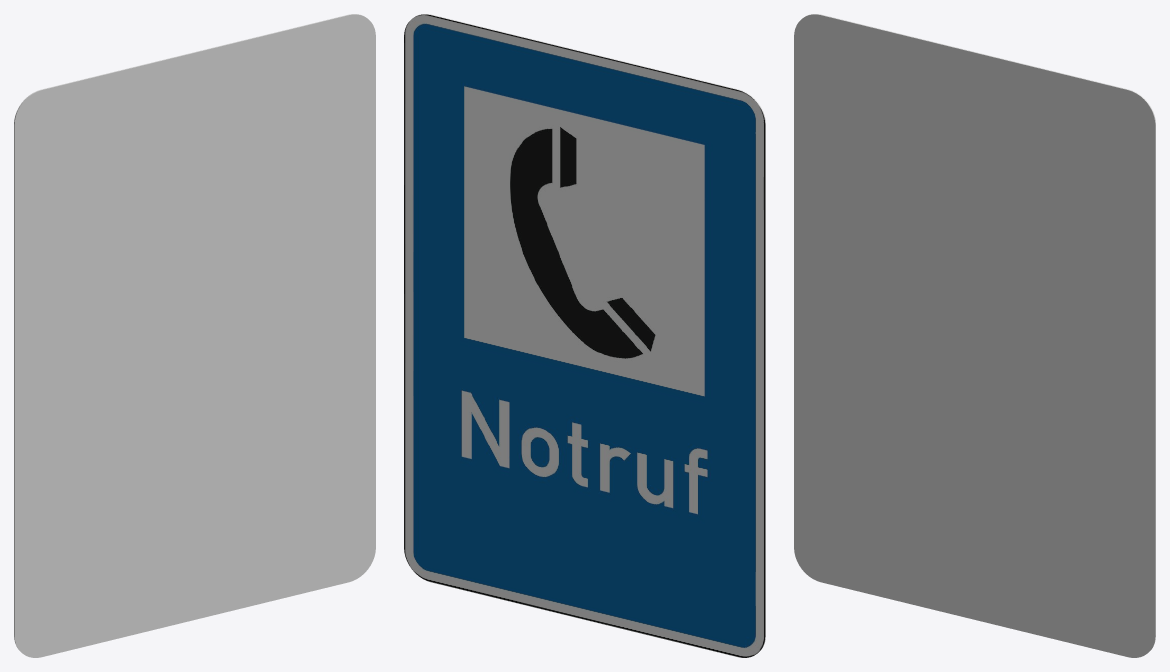
The model's file is 365-52alt.glb.
3 renders of one model, left to right at view 1: azimuth 30°, elevation 25°; view 2: azimuth 150°, elevation 25°; view 3: azimuth 330°, elevation 25°, orthographic.
Visible parts, largest first — view 1: Plane; view 2: Plane; view 3: Plane.
Part boxes in pixels (x1=…): Plane: x1=14, y1=14, x2=375, y2=657; Plane: x1=404, y1=14, x2=765, y2=657; Plane: x1=794, y1=14, x2=1155, y2=657.
Size of the model in its own units: 0.6 by 0.9 by 0.002.
2 materials, 1 textured.
